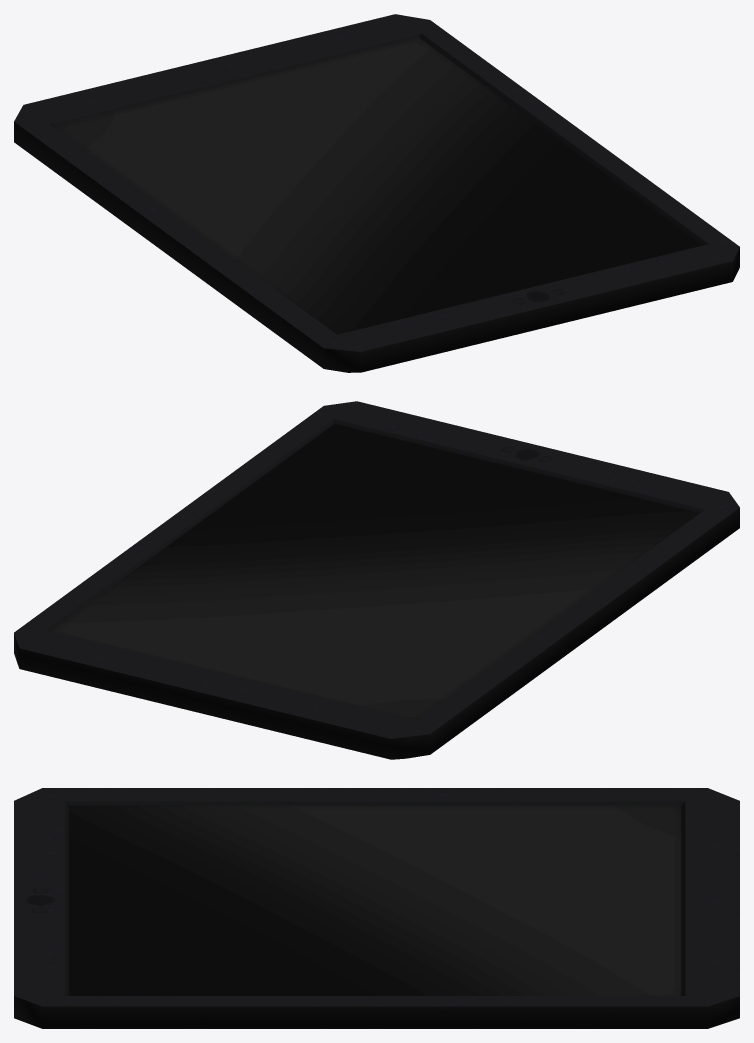
Rendered from Sun_0067_Large_tablet.fbx.
The picture shows the model from 3 angles, top to bottom: view 1: azimuth 30°, elevation 25°; view 2: azimuth 150°, elevation 25°; view 3: azimuth 270°, elevation 25°; orthographic projection. The views are drawn at different scales.
Visible parts, largest first — view 1: Sun_0067_Large_tablet; view 2: Sun_0067_Large_tablet; view 3: Sun_0067_Large_tablet.
Part boxes in pixels (<box>): Sun_0067_Large_tablet: <box>14,14,739,372</box>; Sun_0067_Large_tablet: <box>14,401,739,759</box>; Sun_0067_Large_tablet: <box>14,788,739,1028</box>.
Size of the model in its own units: 24.72 by 1.73 by 34.73.
